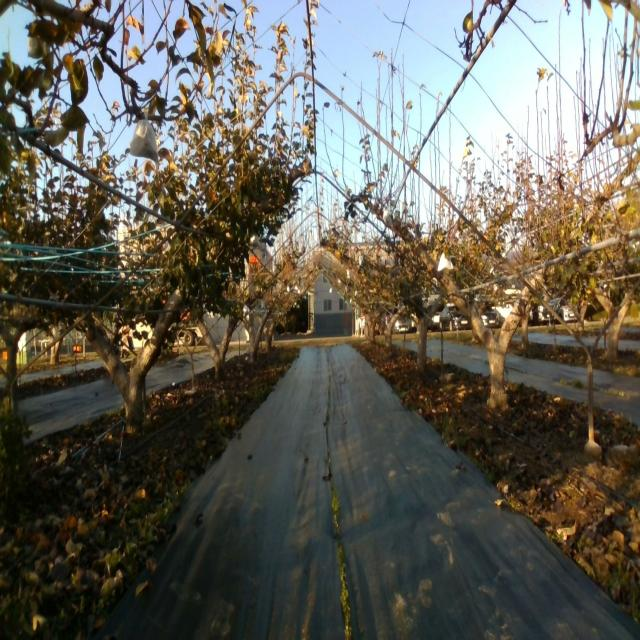pearbags: (128, 112, 160, 166), (438, 252, 453, 272), (249, 229, 261, 248), (383, 210, 393, 229)
